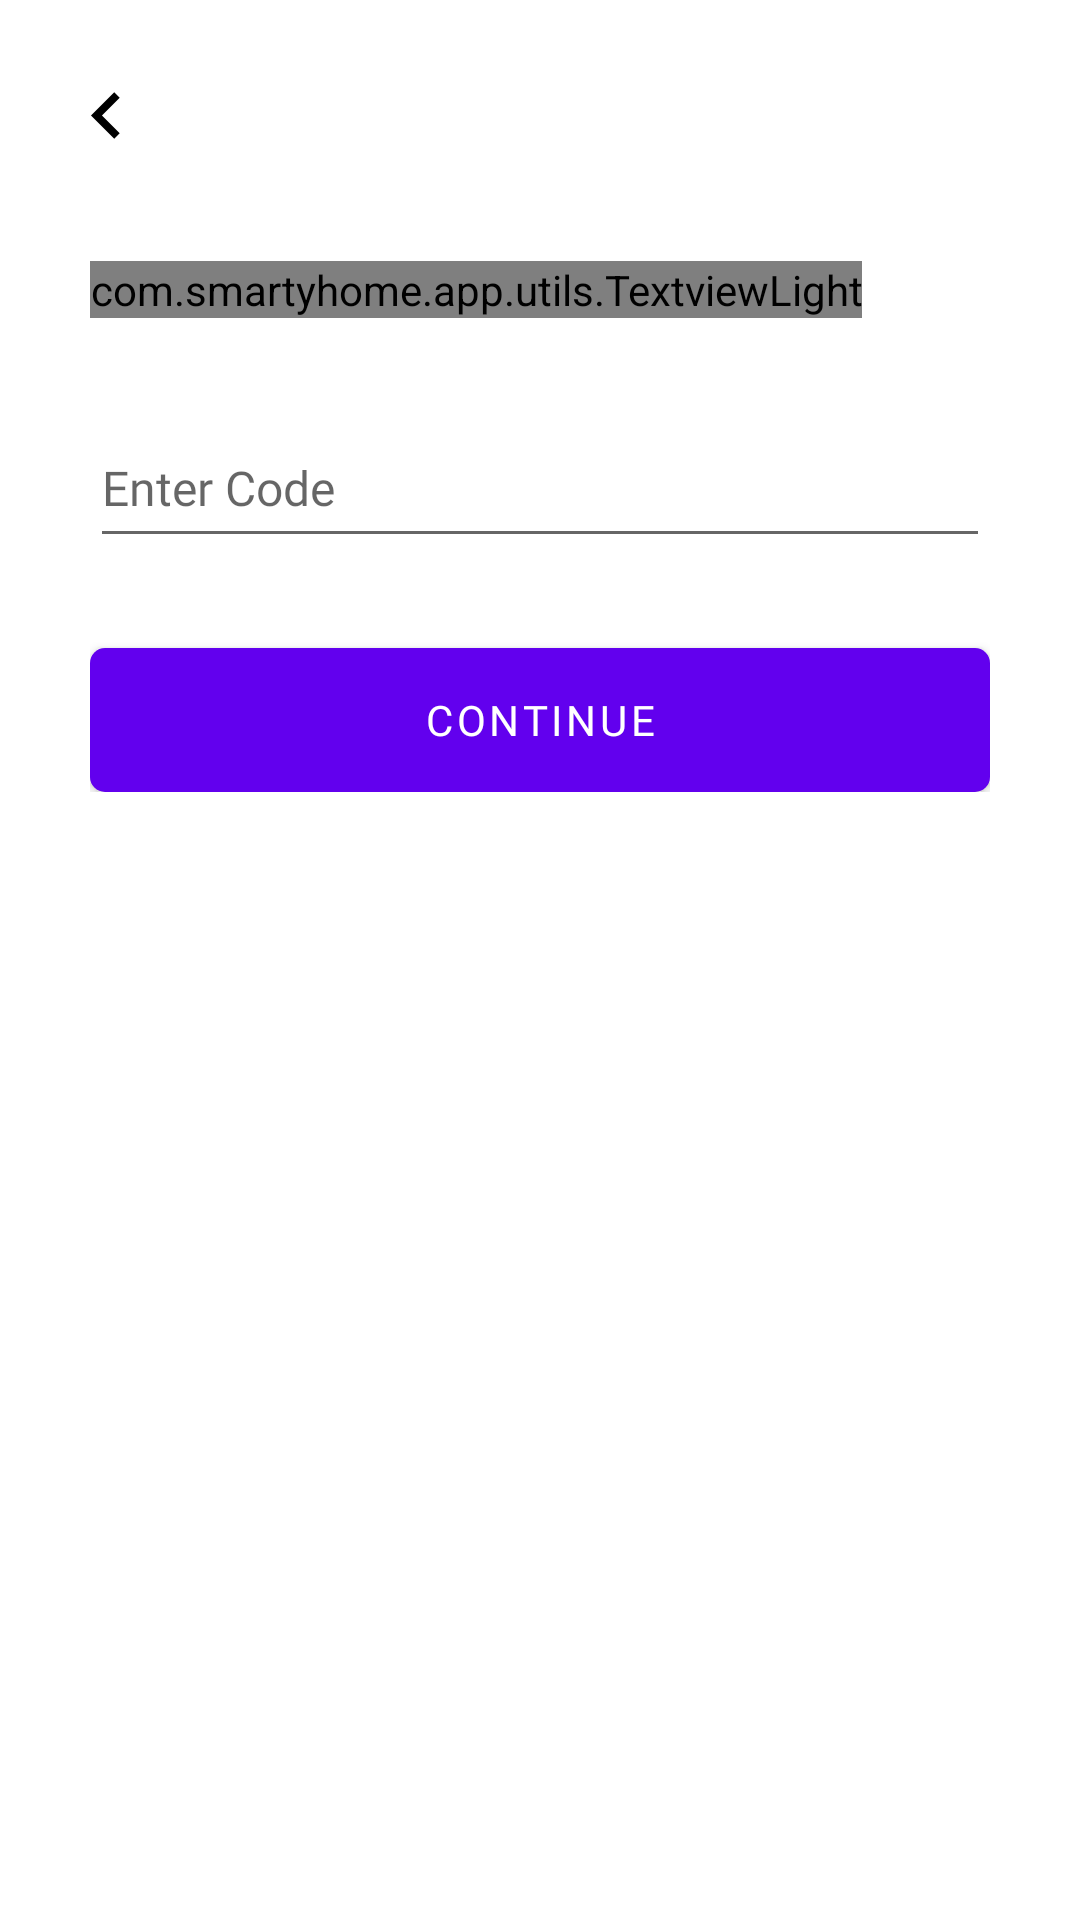

Screen size 1080x1920. Icon name, then its center in pixels as point (x, y):
back: point (105, 115)
